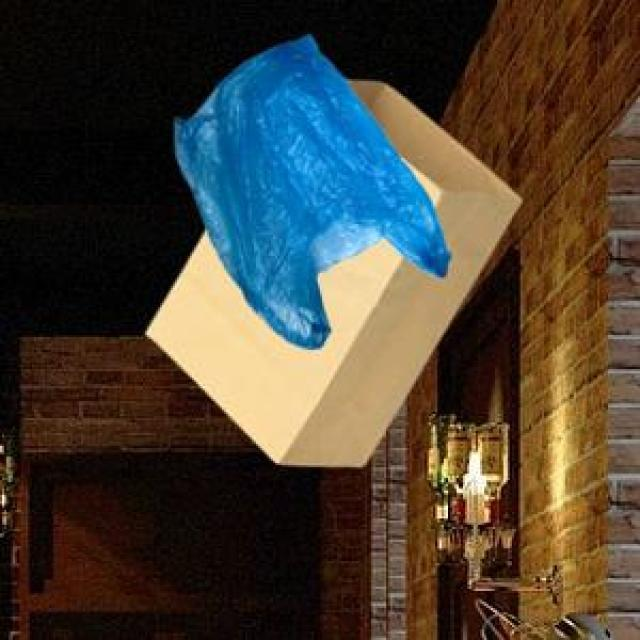paper: (143, 75, 516, 463)
